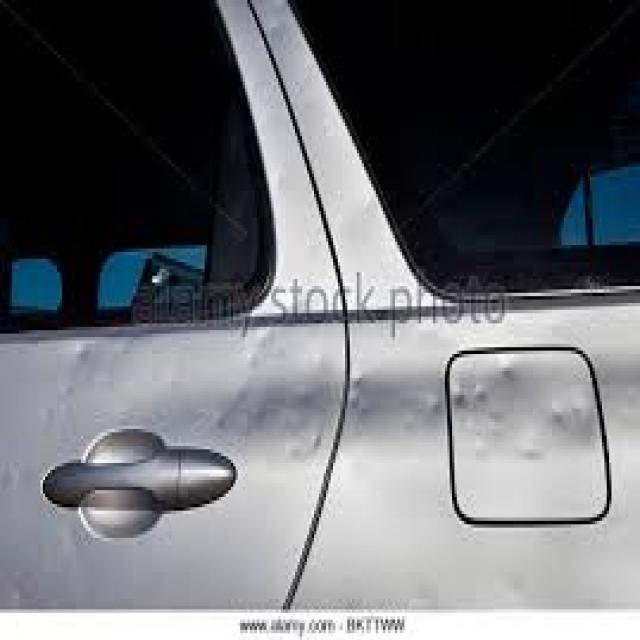minor: (44, 308, 640, 458)
